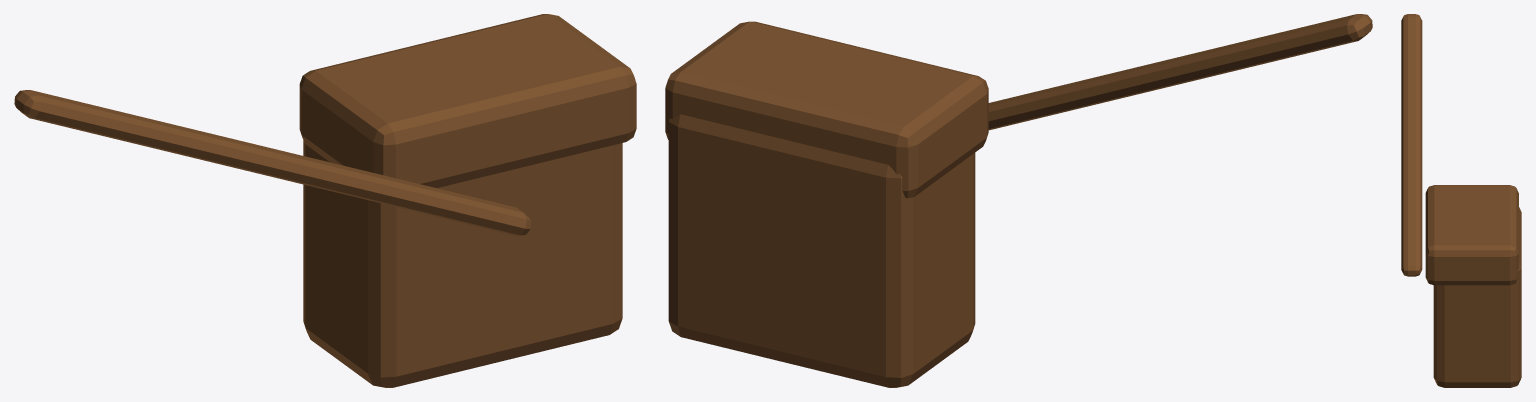
Rendered from satchel.glb.
The picture shows the model from 3 angles, left to right: view 1: azimuth 30°, elevation 25°; view 2: azimuth 150°, elevation 25°; view 3: azimuth 270°, elevation 25°; orthographic projection. The views are drawn at different scales.
Parts seen in each view (by area): view 1: satchel, satchel-flap, satchel-strap; view 2: satchel, satchel-flap, satchel-strap; view 3: satchel-flap, satchel, satchel-strap.
Part boxes in pixels (bbox=[...]): satchel: bbox=[303, 140, 622, 387]; satchel-flap: bbox=[299, 14, 636, 187]; satchel-strap: bbox=[14, 90, 530, 235]; satchel: bbox=[668, 114, 975, 387]; satchel-flap: bbox=[665, 21, 988, 198]; satchel-strap: bbox=[988, 14, 1372, 130]; satchel-flap: bbox=[1425, 185, 1518, 285]; satchel: bbox=[1433, 207, 1521, 387]; satchel-strap: bbox=[1401, 14, 1422, 276].
Size of the model in its own units: 0.3527 by 0.2181 by 0.1095.
